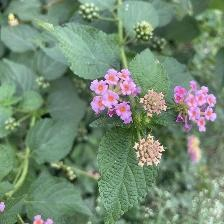common lanthana: (89, 67, 141, 129), (172, 77, 218, 132)
